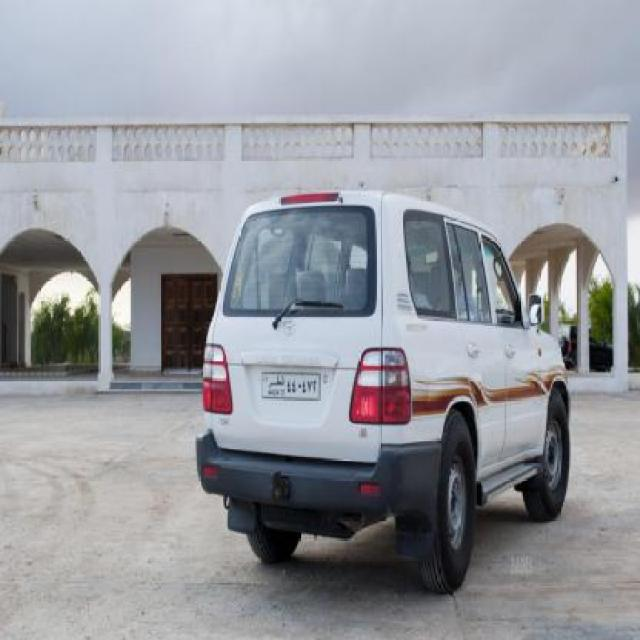License-Plates: (253, 368, 328, 405)
